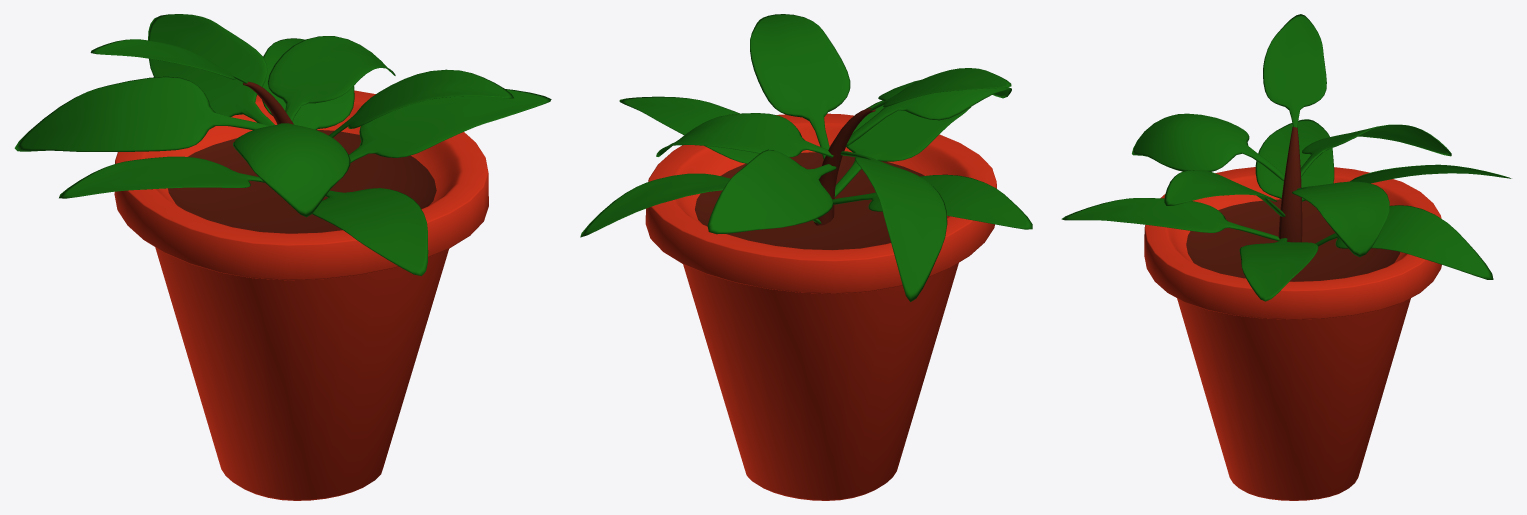
Rendered from MSH_Maceta.FBX.
3 views of the same model, side by side, from view 1: azimuth 30°, elevation 25°; view 2: azimuth 150°, elevation 25°; view 3: azimuth 270°, elevation 25° (orthographic). The views are drawn at different scales.
Parts seen in each view (by area): view 1: G_Maceta; view 2: G_Maceta; view 3: G_Maceta.
Part boxes in pixels (x1=…): G_Maceta: x1=14, y1=14, x2=551, y2=500; G_Maceta: x1=580, y1=14, x2=1032, y2=500; G_Maceta: x1=1061, y1=14, x2=1511, y2=500.
Bounding box in the file's own units: 39.97 × 38.09 × 40.98.
